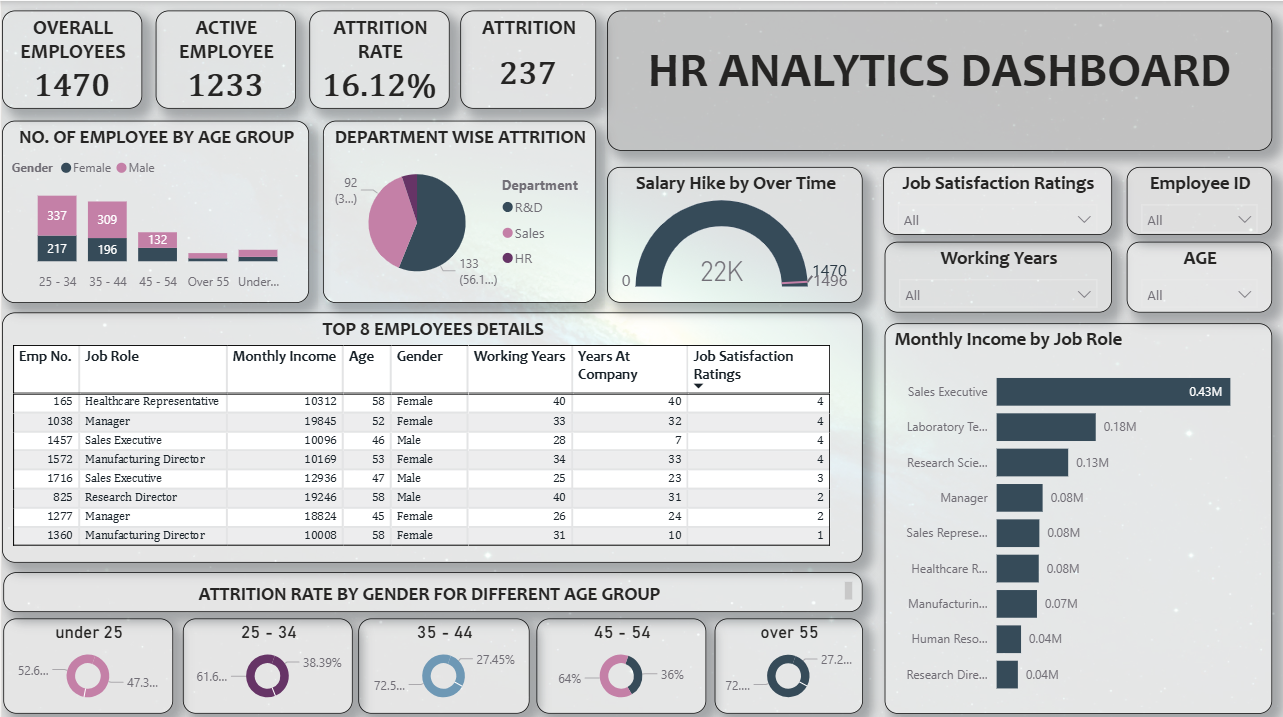

Layout of this report page (visuals, bound fields, positions):
{"tool":"powerbi","page":{"name":"Page 6","canvas":[1280,720],"ordinal":0},"visuals":[{"type":"donutChart","title":"under 25","fields":{"Category":["HR data.CF_age band"],"Series":["HR data.Gender"],"Y":["Sum(HR data.attrition count)"]},"box":[1.4,615.1,169.3,94.8],"z":0},{"type":"donutChart","title":"45 - 54","fields":{"Category":["HR data.Gender"],"Series":["HR data.CF_age band"],"Y":["Sum(HR data.attrition count)"]},"box":[532.4,615.1,169.3,94.8],"z":1000},{"type":"donutChart","title":"35 - 44","fields":{"Category":["HR data.CF_age band"],"Series":["HR data.Gender"],"Y":["Sum(HR data.attrition count)"]},"box":[354.9,615.1,170.7,94.8],"z":2000},{"type":"donutChart","title":"25 - 34","fields":{"Category":["HR data.CF_age band"],"Series":["HR data.Gender"],"Y":["Sum(HR data.attrition count)"]},"box":[180.2,615.1,169.3,94.8],"z":3000},{"type":"donutChart","title":"over 55","fields":{"Category":["HR data.CF_age band"],"Series":["HR data.Gender"],"Y":["Sum(HR data.attrition count)"]},"box":[709.9,615.1,147.7,94.8],"z":4000},{"type":"card","title":"OVERALL EMPLOYEES","fields":{"Values":["Sum(HR data.Employee Count)"]},"box":[0,9.5,140,97.5],"z":5000},{"type":"card","title":"ACTIVE EMPLOYEE ","fields":{"Values":["Sum(HR data.CF_current Employee)"]},"box":[153.1,9.5,139.5,97.5],"z":7000},{"type":"card","title":"ATTRITION","fields":{"Values":["Sum(HR data.attrition count)"]},"box":[456.5,9.5,135.5,97.5],"z":8000},{"type":"card","title":"ATTRITION RATE","fields":{"Values":["HR data.ATTRITION RARE"]},"box":[306.2,9.5,140,97.5],"z":9000},{"type":"textbox","box":[1.4,569,856.2,40],"z":10000},{"type":"columnChart","title":"NO. OF EMPLOYEE BY AGE GROUP","fields":{"Y":["Sum(HR data.Employee Count)"],"Series":["HR data.Gender"],"Category":["HR data.CF_age band"]},"box":[0,119.2,306.2,181.5],"z":11000},{"type":"pieChart","title":"DEPARTMENT WISE ATTRITION","fields":{"Category":["HR data.Department"],"Y":["Sum(HR data.attrition count)"]},"box":[319.7,119.2,272.3,181.5],"z":12000},{"type":"tableEx","title":"TOP 8 EMPLOYEES DETAILS ","fields":{"Values":["HR data.Employee Number","HR data.Job Role","Sum(HR data.Monthly Income)","Sum(HR data.Age)","HR data.Gender","Sum(HR data.Total Working Years)","Sum(HR data.Years At Company)","Sum(HR data.Job Satisfaction)"]},"box":[0,310.2,857.6,249.3],"z":13000},{"type":"slicer","title":"Job Satisfaction Ratings","fields":{"Values":["HR data.Job Satisfaction"]},"box":[877.9,165.3,227.6,67.7],"z":14000},{"type":"slicer","title":"AGE","fields":{"Values":["HR data.Age"]},"box":[1120.4,239.8,145,70.4],"z":15000},{"type":"textbox","box":[602.9,9.5,662.5,139.5],"z":16000},{"type":"clusteredBarChart","title":" Monthly Income by Job Role","fields":{"Category":["HR data.Job Role"],"Y":["Sum(HR data.Monthly Income)"]},"box":[879.2,321.1,386.1,388.8],"z":17000},{"type":"slicer","title":"Working Years","fields":{"Values":["HR data.Total Working Years"]},"box":[879.2,239.8,226.2,70.4],"z":18000},{"type":"gauge","title":"Salary Hike by Over Time","fields":{"Y":["Sum(HR data.Percent Salary Hike)"],"TargetValue":["CountNonNull(HR data.Over Time)"]},"box":[602.9,165.3,254.7,135.5],"z":19000},{"type":"slicer","title":"Employee ID","fields":{"Values":["HR data.Employee Number"]},"box":[1120.4,165.3,145,67.7],"z":20000}]}

Visuals, with their boxes in screenshot pixels (x1, y1, x2, y2), scaled from the page's 1280x720 canvas onto the 1283x717 screenshot:
"under 25" donutChart: {"left": 1, "top": 613, "right": 171, "bottom": 707}
"45 - 54" donutChart: {"left": 534, "top": 613, "right": 703, "bottom": 707}
"35 - 44" donutChart: {"left": 356, "top": 613, "right": 527, "bottom": 707}
"25 - 34" donutChart: {"left": 181, "top": 613, "right": 350, "bottom": 707}
"over 55" donutChart: {"left": 712, "top": 613, "right": 860, "bottom": 707}
"OVERALL EMPLOYEES" card: {"left": 0, "top": 9, "right": 140, "bottom": 107}
"ACTIVE EMPLOYEE " card: {"left": 153, "top": 9, "right": 293, "bottom": 107}
"ATTRITION" card: {"left": 458, "top": 9, "right": 593, "bottom": 107}
"ATTRITION RATE" card: {"left": 307, "top": 9, "right": 447, "bottom": 107}
textbox: {"left": 1, "top": 567, "right": 860, "bottom": 606}
"NO. OF EMPLOYEE BY AGE GROUP" columnChart: {"left": 0, "top": 119, "right": 307, "bottom": 299}
"DEPARTMENT WISE ATTRITION" pieChart: {"left": 320, "top": 119, "right": 593, "bottom": 299}
"TOP 8 EMPLOYEES DETAILS " tableEx: {"left": 0, "top": 309, "right": 860, "bottom": 557}
"Job Satisfaction Ratings" slicer: {"left": 880, "top": 165, "right": 1108, "bottom": 232}
"AGE" slicer: {"left": 1123, "top": 239, "right": 1268, "bottom": 309}
textbox: {"left": 604, "top": 9, "right": 1268, "bottom": 148}
" Monthly Income by Job Role" clusteredBarChart: {"left": 881, "top": 320, "right": 1268, "bottom": 707}
"Working Years" slicer: {"left": 881, "top": 239, "right": 1108, "bottom": 309}
"Salary Hike by Over Time" gauge: {"left": 604, "top": 165, "right": 860, "bottom": 300}
"Employee ID" slicer: {"left": 1123, "top": 165, "right": 1268, "bottom": 232}
